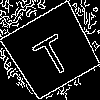T: (26, 25, 76, 80)
